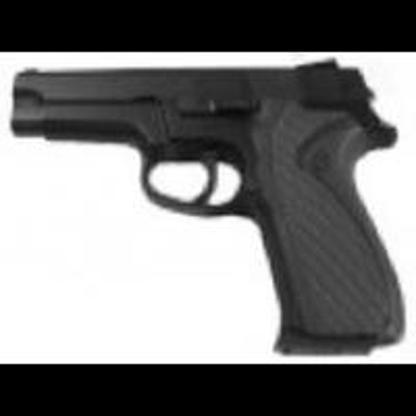weapon: (7, 57, 408, 361)
